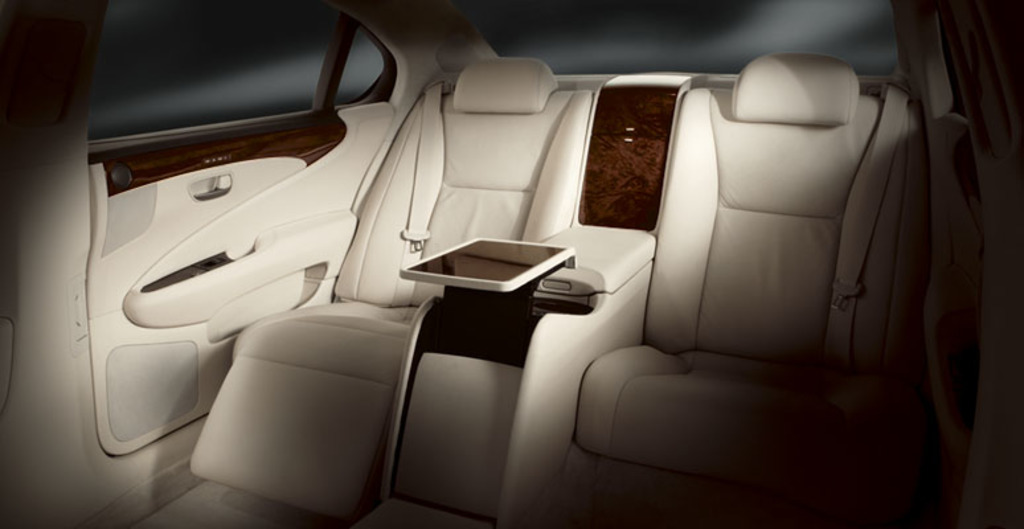Car: (0, 0, 1022, 527)
